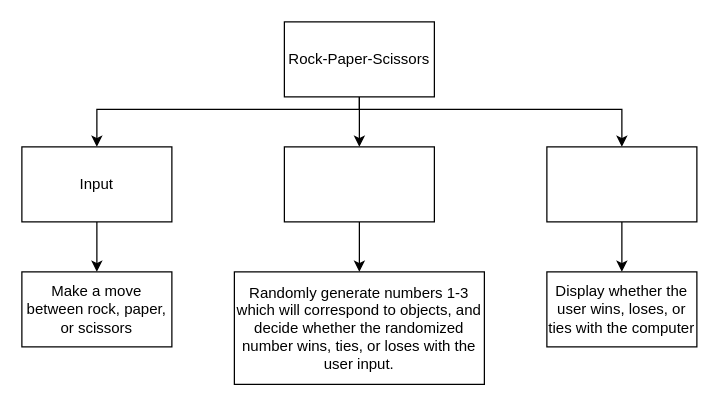
This 719x406 diagram has some shape labels left out. The centre of each missing label's shape, as x and y in pixels:
"Output" belongs at point (621, 184).
"Process" belongs at point (358, 184).
